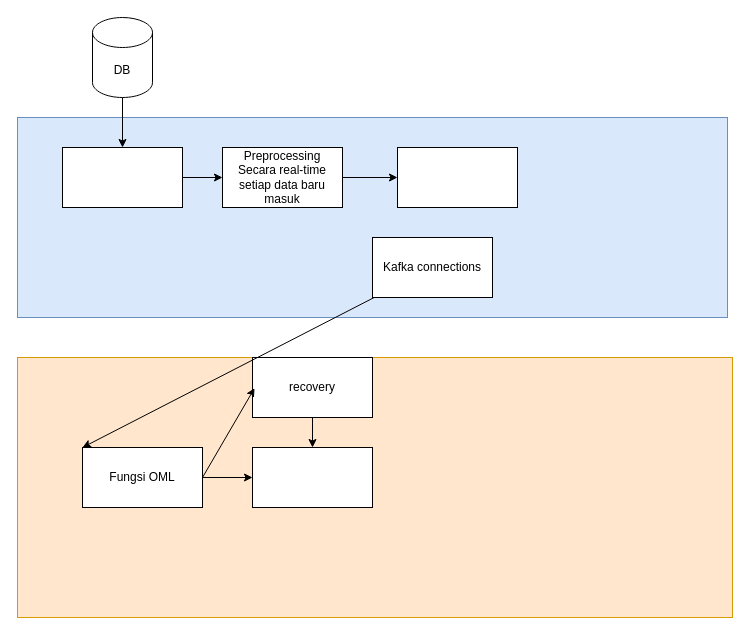
Image size: 750x635. Some labels were removed from this diagram. The box of each missing label's shape, as (x1, y1, x2, y2) in pixels:
Ambil data dari db: (62, 146, 182, 208)
Evaluasi: (252, 446, 372, 508)
kirim secara bach: (396, 146, 518, 208)
